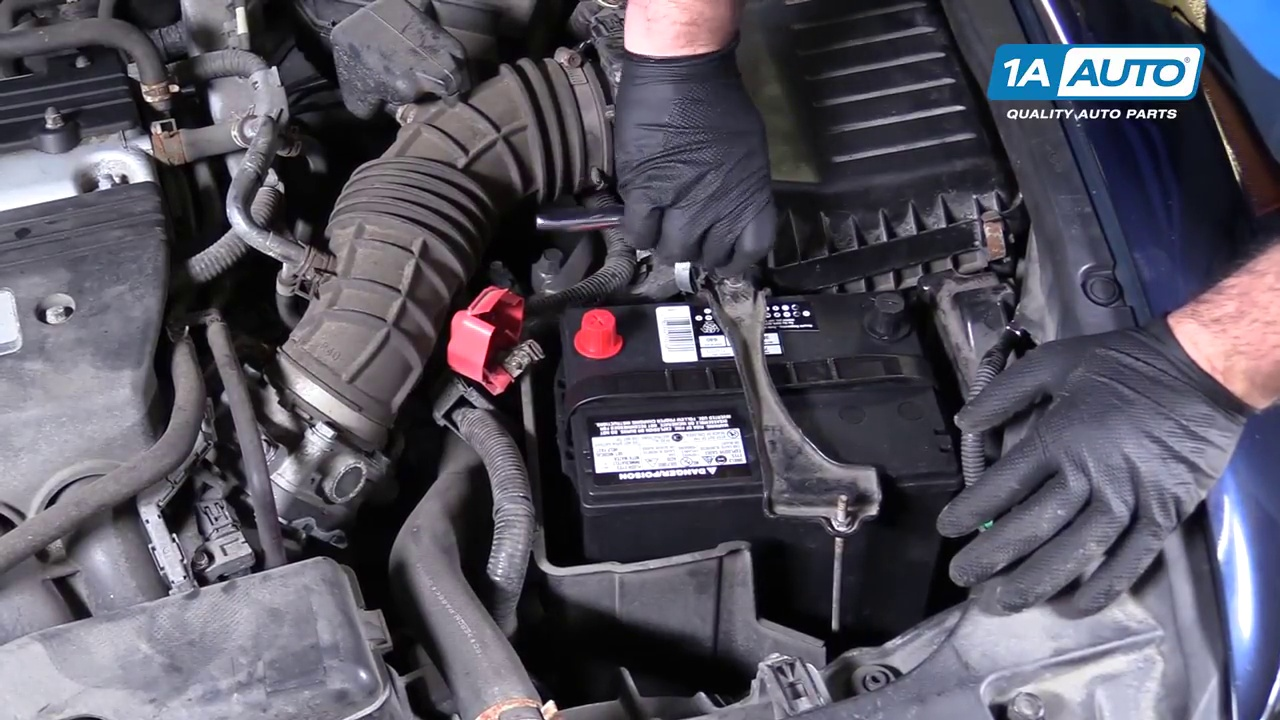battery: (556, 282, 961, 496)
pos_disconnected: (437, 268, 639, 409)
